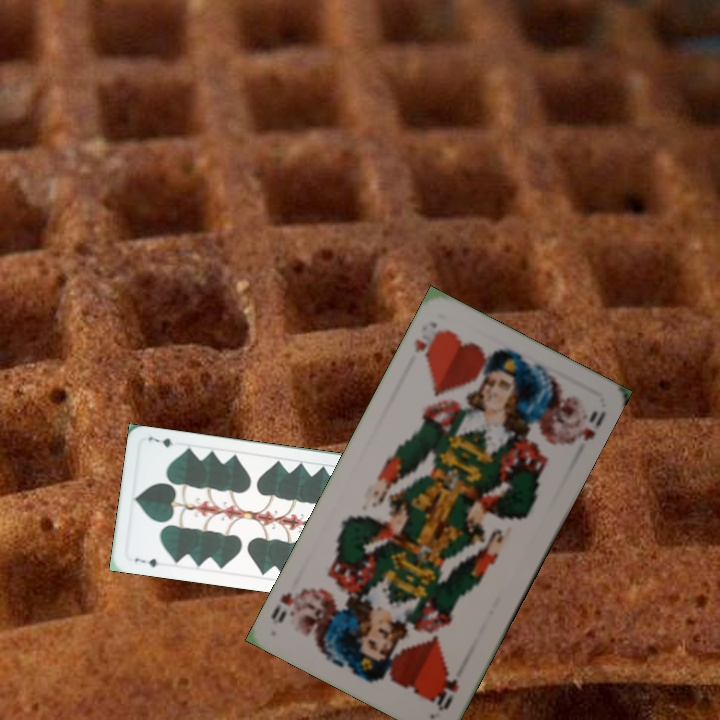G7: (131, 554, 160, 569)
HO: (432, 668, 462, 714), (410, 326, 445, 364)
